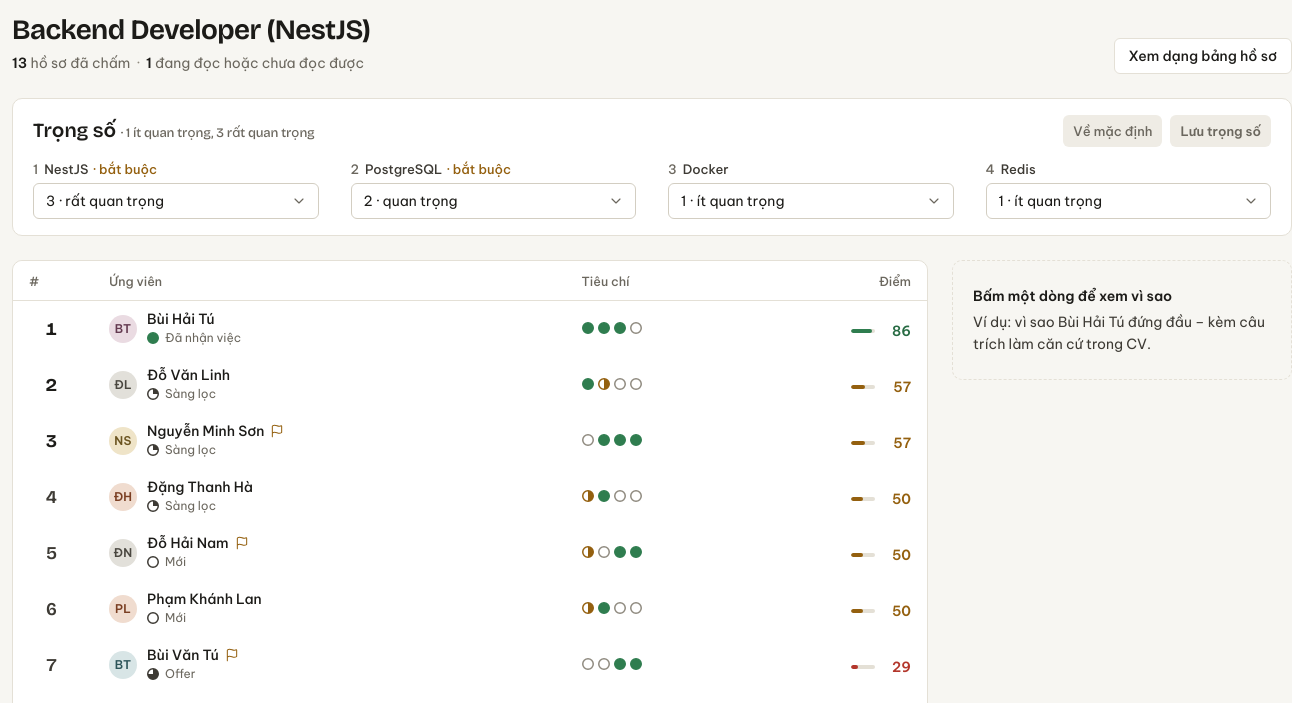
it: JobRankingPage › lets HR save the new weights
Select "1 · ít quan trọng" in the dropdown labelled "1NestJS· bắt buộc" at (176, 201), box left=33, top=183, right=318, bottom=219
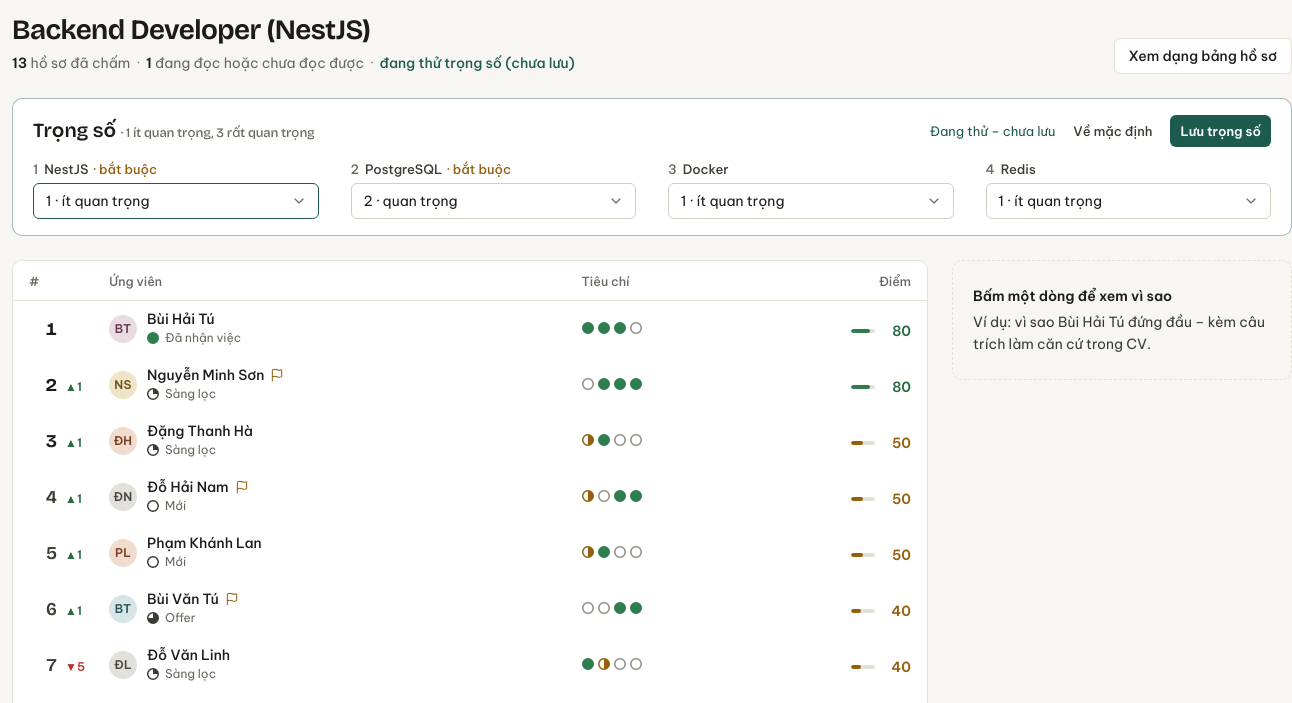
Expected: the button "Lưu trọng số" is enabled, left=1170, top=115, right=1271, bottom=147
